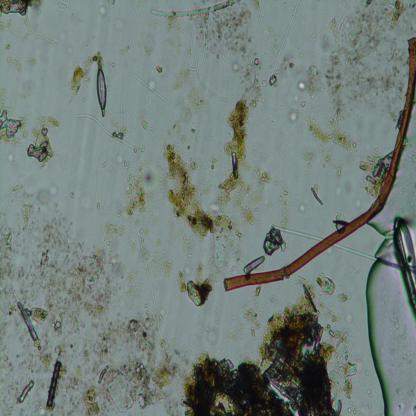Air bubble: (364, 231, 416, 416)
Background material: (184, 289, 328, 416), (325, 0, 414, 117), (212, 98, 271, 222), (101, 339, 183, 416), (18, 246, 76, 350), (162, 140, 213, 242), (214, 12, 265, 104), (72, 111, 141, 170), (69, 245, 124, 318), (35, 199, 89, 262), (387, 211, 416, 317), (328, 320, 356, 406), (307, 115, 357, 156), (209, 214, 244, 272), (26, 113, 61, 167), (67, 50, 103, 94), (354, 148, 389, 192), (166, 103, 205, 142), (44, 351, 68, 414), (176, 270, 214, 305), (93, 316, 121, 360), (0, 110, 29, 145), (0, 223, 17, 282), (274, 178, 292, 231), (0, 0, 44, 17), (0, 372, 16, 416), (151, 253, 177, 278), (16, 347, 43, 371), (316, 273, 337, 303), (0, 281, 19, 314), (304, 63, 323, 96), (81, 386, 101, 416), (15, 374, 35, 404), (244, 308, 262, 341), (17, 202, 38, 230), (8, 55, 37, 74), (69, 362, 86, 394), (102, 223, 123, 247), (15, 15, 31, 41), (60, 150, 68, 201), (0, 344, 14, 373), (33, 30, 56, 46), (302, 148, 318, 170), (96, 362, 110, 386), (204, 321, 217, 343), (68, 316, 83, 335), (311, 182, 323, 205), (80, 33, 94, 50), (293, 76, 307, 93), (346, 403, 362, 416), (337, 289, 348, 306), (0, 83, 7, 109), (336, 162, 346, 180), (38, 190, 49, 206), (0, 18, 13, 31), (80, 347, 92, 361), (142, 44, 152, 59), (99, 5, 110, 18), (332, 184, 343, 197), (7, 152, 17, 166), (68, 4, 76, 21), (298, 199, 307, 214), (14, 88, 26, 99), (56, 0, 68, 11), (107, 0, 117, 13), (13, 186, 22, 200), (0, 42, 10, 54), (290, 110, 298, 125), (356, 196, 364, 209), (48, 184, 58, 194), (119, 44, 129, 54), (254, 284, 261, 296), (410, 186, 416, 200), (156, 62, 162, 73), (85, 0, 93, 8), (300, 100, 307, 108), (70, 192, 75, 200), (112, 60, 117, 67), (410, 200, 414, 208)
Diatom: (95, 60, 112, 116), (244, 256, 266, 274)
Glass filter fibre: (119, 0, 162, 340), (189, 16, 226, 102), (270, 0, 300, 83), (0, 159, 37, 203), (150, 0, 240, 17), (185, 32, 209, 72), (271, 222, 321, 241), (136, 75, 168, 104), (333, 242, 376, 262), (94, 125, 102, 221), (248, 109, 281, 131), (127, 112, 145, 141), (255, 0, 267, 39), (73, 96, 94, 113)
Microfibre: (221, 35, 416, 292)
